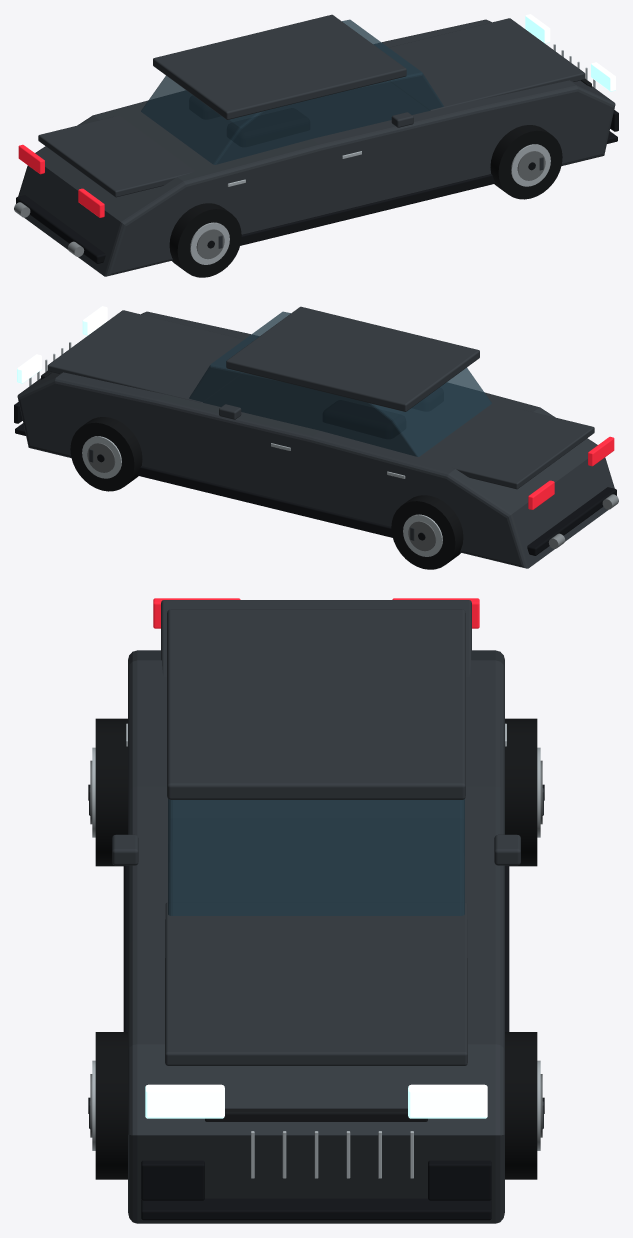
The model's file is rr_silver_seraph_park_ward.glb.
3 renders of one model, top to bottom at view 1: azimuth 30°, elevation 25°; view 2: azimuth 150°, elevation 25°; view 3: azimuth 270°, elevation 25°, orthographic. The views are drawn at different scales.
Visible parts, largest first — view 1: sculpted_body, roof, glasshouse, hood_center, rear_deck, rear_right_wheel_tire, front_right_wheel_tire, side_skirt_1, seat_1, rear_diffuser, front_right_wheel_rim, rear_right_wheel_rim (+7 smaller); view 2: sculpted_body, roof, glasshouse, hood_center, rear_deck, rear_left_wheel_tire, front_left_wheel_tire, side_skirt_-1, seat_-1, rear_diffuser, front_left_wheel_rim, rear_left_wheel_rim (+7 smaller); view 3: sculpted_body, roof, hood_center, glasshouse, front_splitter, front_left_wheel_tire, front_right_wheel_tire, rear_left_wheel_tire, rear_right_wheel_tire, rear_deck, headlight_left, headlight_right (+7 smaller).
Part boxes in pixels (box(x1,y1,x2,y2)): sculpted_body: box(18, 19, 615, 276); roof: box(153, 14, 406, 119); glasshouse: box(141, 19, 443, 164); hood_center: box(382, 18, 585, 110); rear_deck: box(38, 115, 194, 197); rear_right_wheel_tire: box(169, 203, 241, 277); front_right_wheel_tire: box(490, 125, 562, 199); side_skirt_1: box(240, 174, 495, 245); seat_1: box(227, 108, 309, 146); rear_diffuser: box(16, 195, 105, 263); front_right_wheel_rim: box(511, 144, 550, 186); rear_right_wheel_rim: box(190, 222, 229, 264); sculpted_body: box(17, 311, 614, 568); roof: box(226, 306, 479, 411); glasshouse: box(189, 311, 491, 456); hood_center: box(47, 310, 250, 402); rear_deck: box(438, 407, 594, 489); rear_left_wheel_tire: box(391, 495, 463, 569); front_left_wheel_tire: box(70, 417, 142, 491); side_skirt_-1: box(137, 466, 392, 537); seat_-1: box(323, 400, 405, 438); rear_diffuser: box(527, 487, 616, 555); front_left_wheel_rim: box(82, 436, 121, 478); rear_left_wheel_rim: box(403, 514, 442, 556); sculpted_body: box(128, 650, 504, 1223); roof: box(167, 609, 465, 799); hood_center: box(165, 902, 467, 1065); glasshouse: box(168, 799, 464, 915); front_splitter: box(141, 1198, 491, 1220); front_left_wheel_tire: box(505, 1032, 537, 1179); front_right_wheel_tire: box(95, 1032, 127, 1179); rear_left_wheel_tire: box(505, 718, 537, 866); rear_right_wheel_tire: box(95, 718, 127, 866); rear_deck: box(161, 600, 471, 677); headlight_left: box(408, 1084, 487, 1118); headlight_right: box(145, 1084, 224, 1118).
Bounding box in the file's own units: 6.02 × 1.53 × 2.22.
